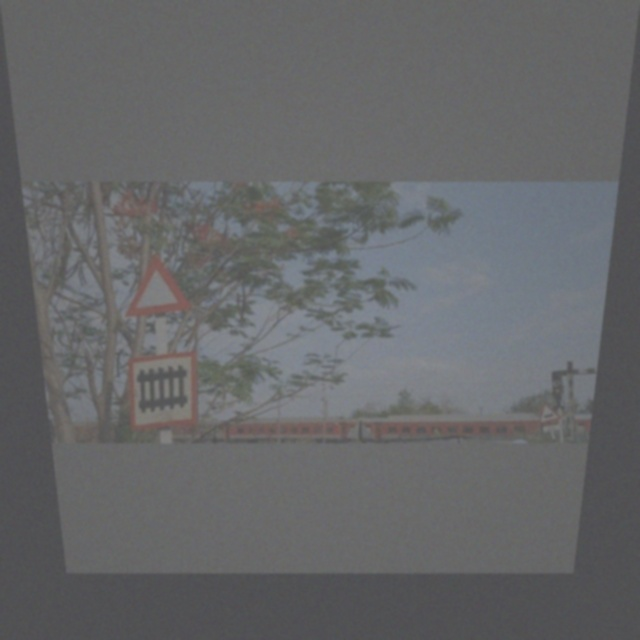Guarded_Level_Crossing: (123, 343, 205, 427)
